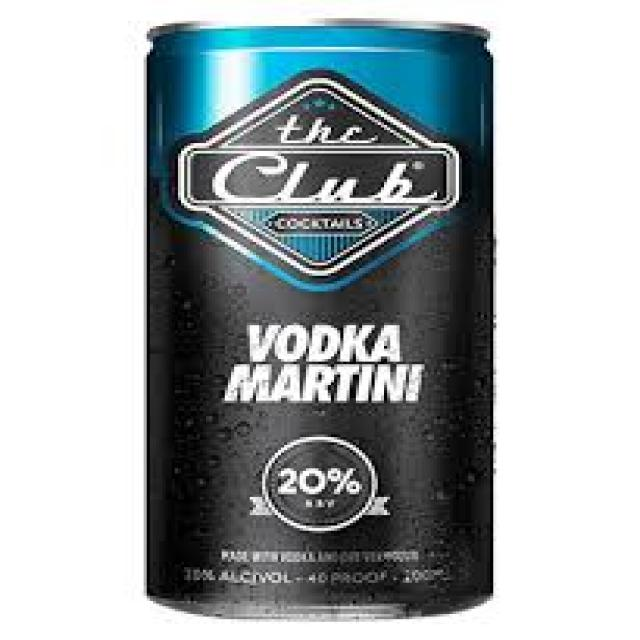Cans: (125, 2, 512, 622)
